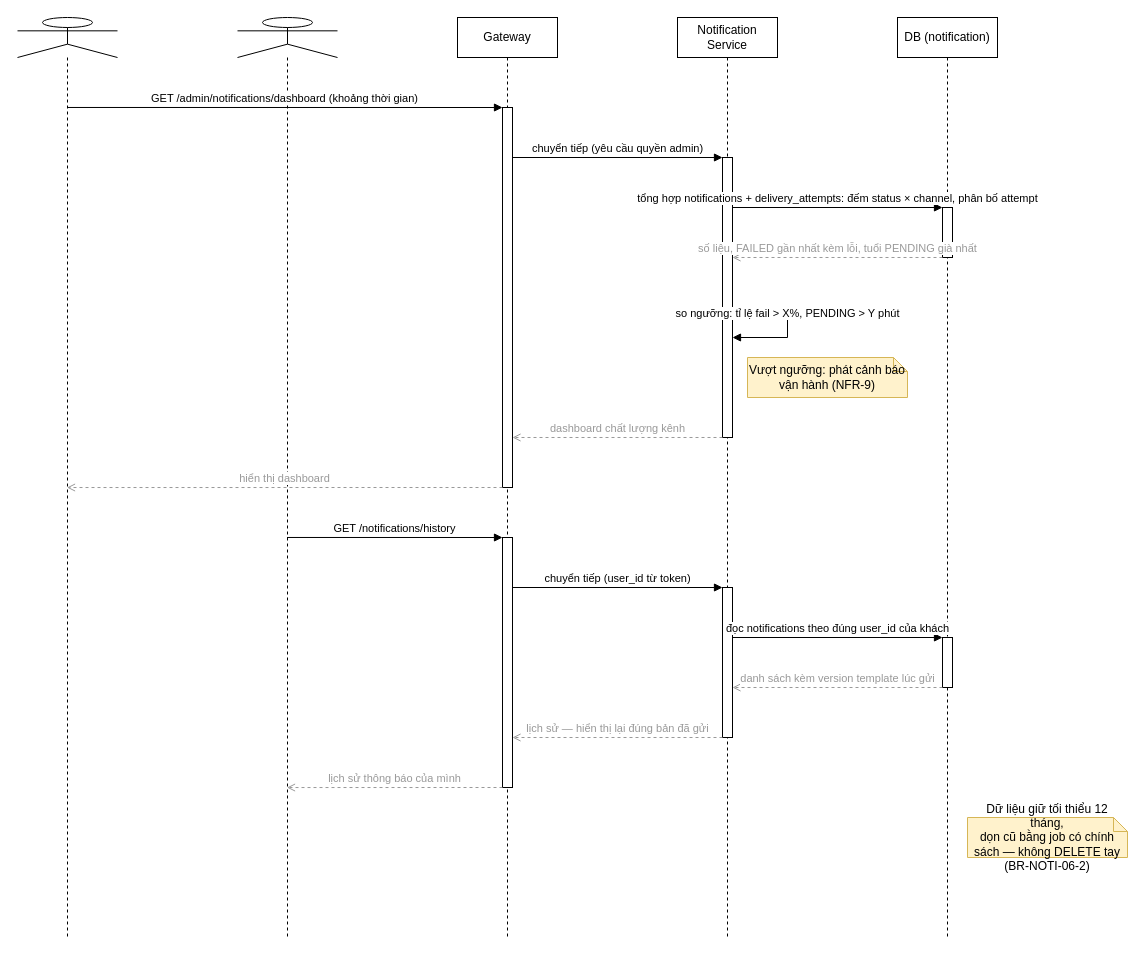
The diagram is 1145 pixels wide and 955 high, and some of its shapes have lost their labels. The shapes that lost their labels are listed below. From the top down, each one's box as (x1, y1, x2, y2) in pixels, then its label:
(16, 16, 118, 938): Admin
(236, 16, 338, 938): Khách hàng
